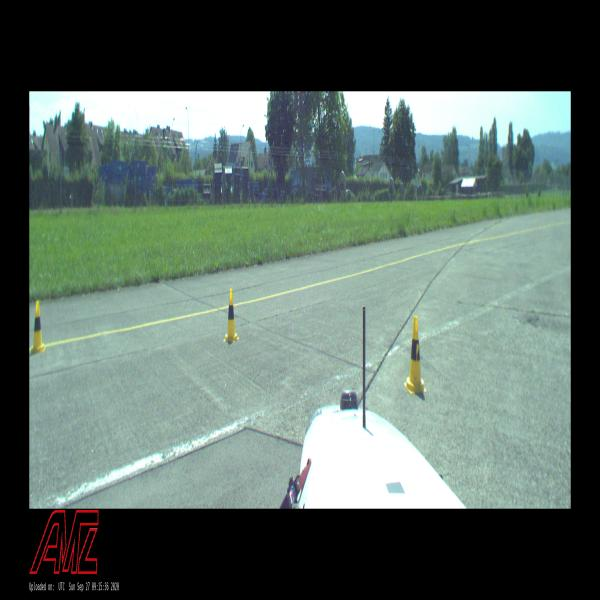yellow_cone: (403, 314, 427, 394), (223, 288, 240, 343), (29, 301, 46, 354)
